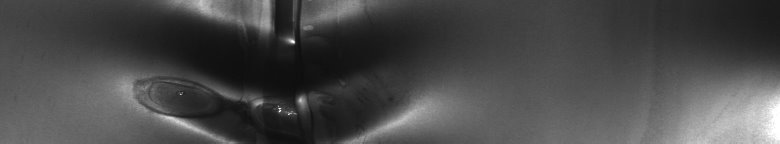ke: (123, 4, 416, 136)
